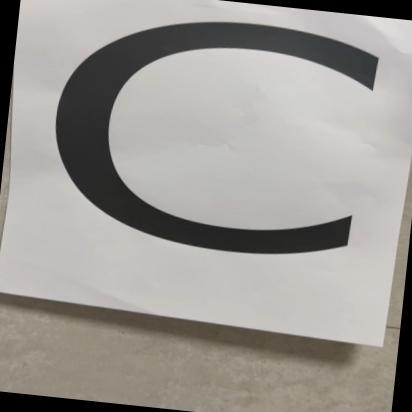seat: (0, 0, 409, 336)
